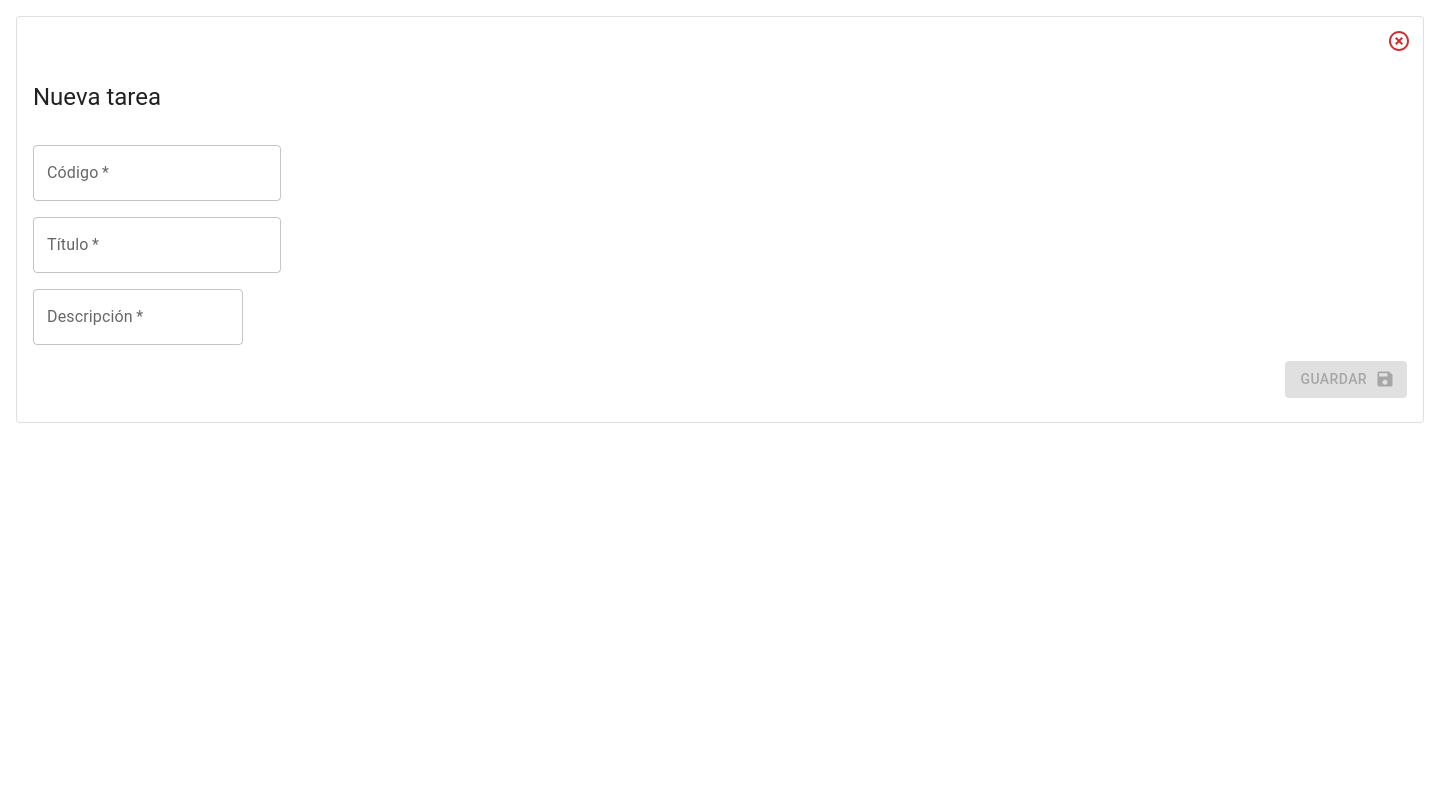
NewTask › should show error message when createTask fails
Type "tarea-2" into the field with placeholder "Código de la tarea" at [157, 173], box 33,145 -> 281,201
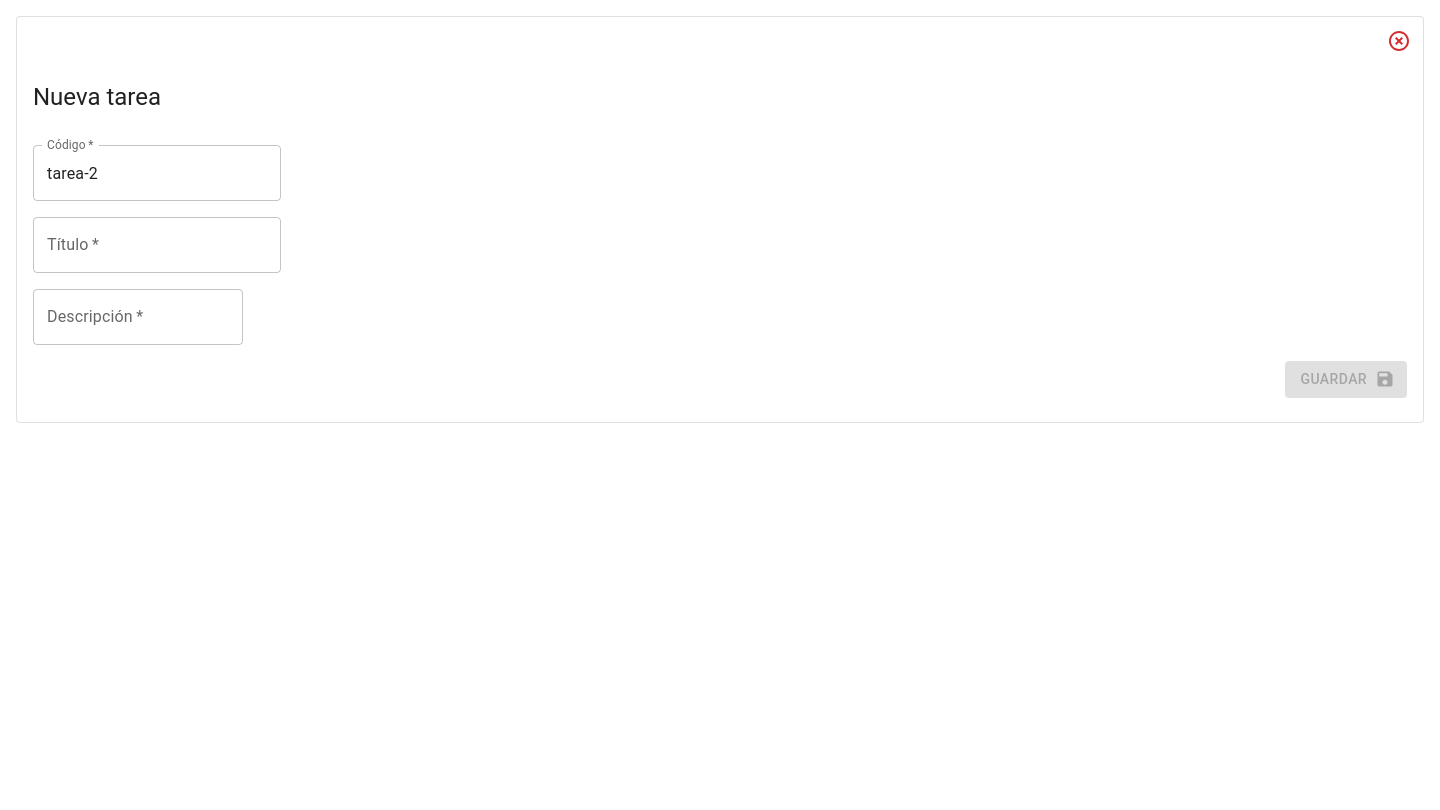
Type "Configurar Next con Material UI" into the field with placeholder "Leer" at [157, 245], box 33,217 -> 281,273
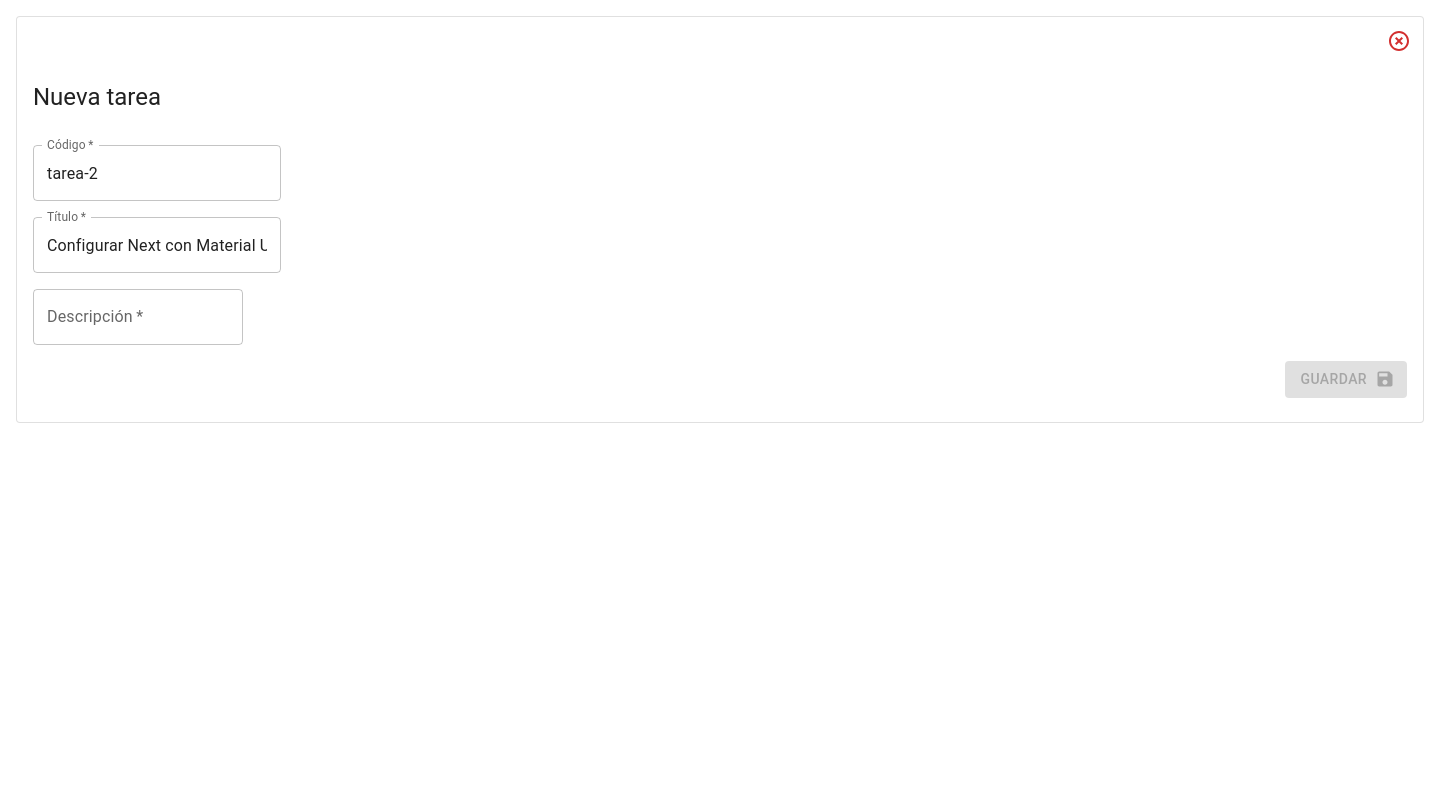
Type "Material UI" into the text box with placeholder "Descripción de la tarea" at [138, 317], box 47,306 -> 229,328
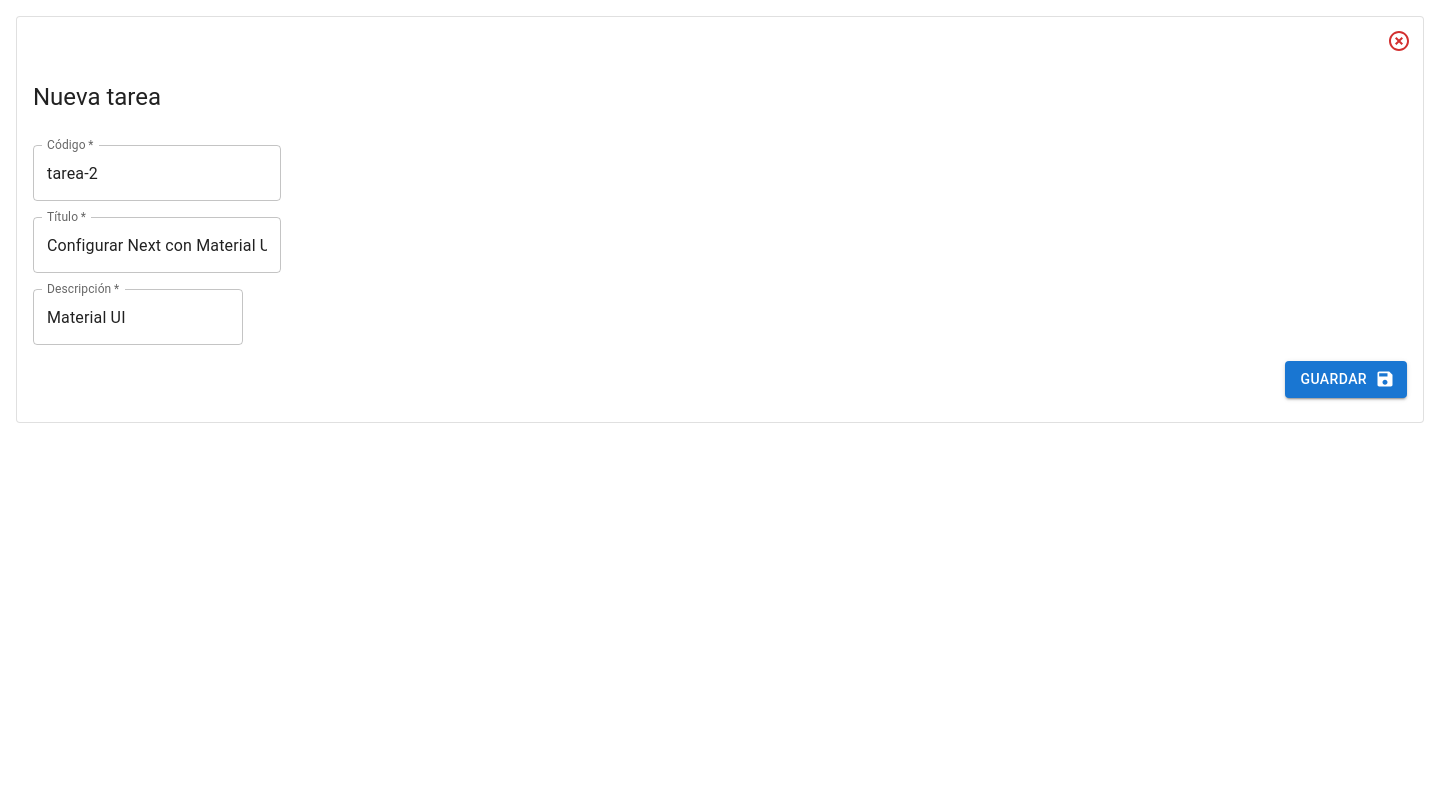
Click the button "Guardar" at [1346, 379], box 1284,361 -> 1407,398
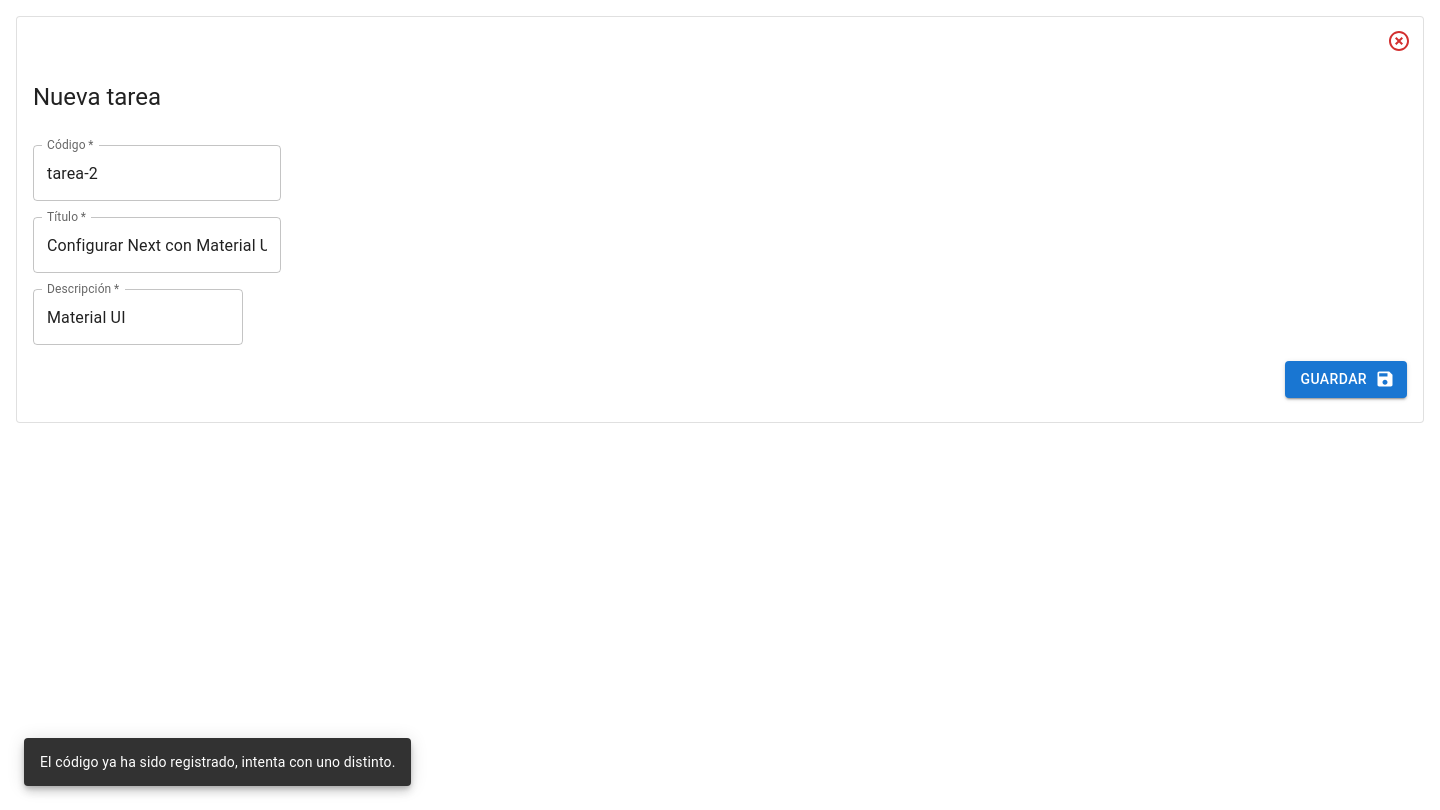
Check: the text "El código ya ha sido registrado, intenta con uno distinto." is shown, box 40,754 -> 396,770
